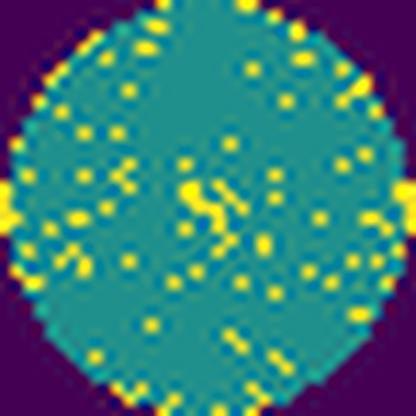Center: (174, 174, 241, 259)
